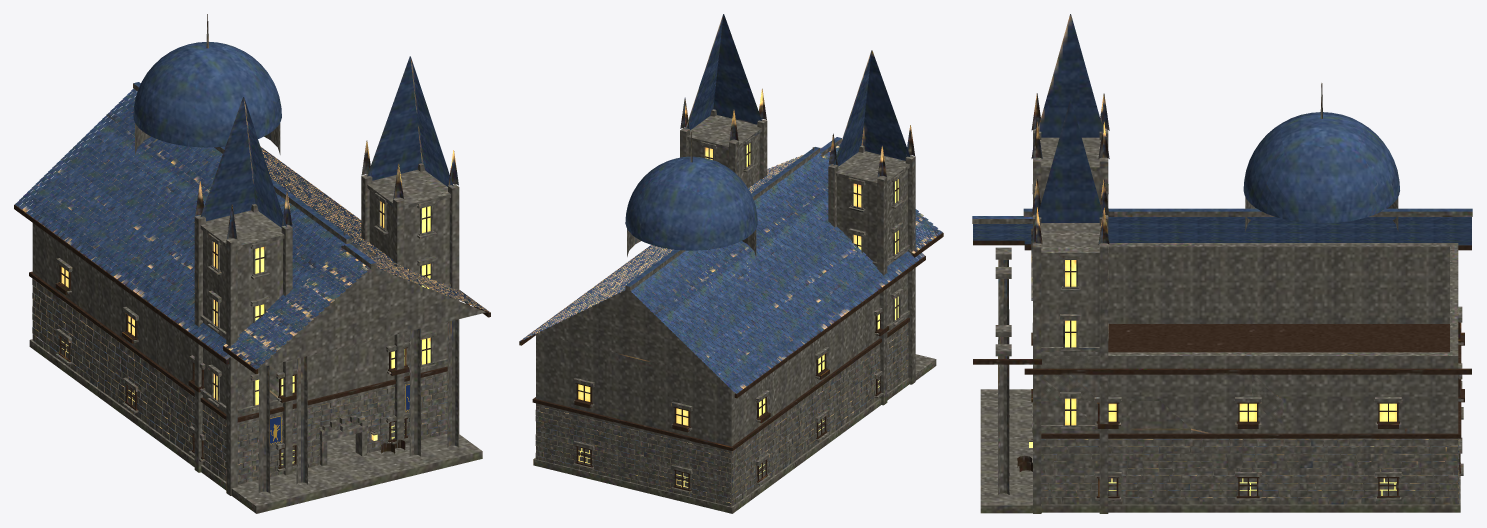
The model's file is bld_temple_card.glb.
3 renders of one model, left to right at view 1: azimuth 30°, elevation 25°; view 2: azimuth 150°, elevation 25°; view 3: azimuth 270°, elevation 25°, orthographic. The views are drawn at different scales.
Visible parts, largest first — view 1: temple_card; view 2: temple_card; view 3: temple_card.
Part boxes in pixels (bbox=[...]): temple_card: bbox=[14, 14, 490, 513]; temple_card: bbox=[519, 14, 943, 513]; temple_card: bbox=[972, 14, 1472, 513].
Bounding box in the file's own units: 26.45 × 39.1 × 44.54.
Materials: 1 (1 with a texture image).
